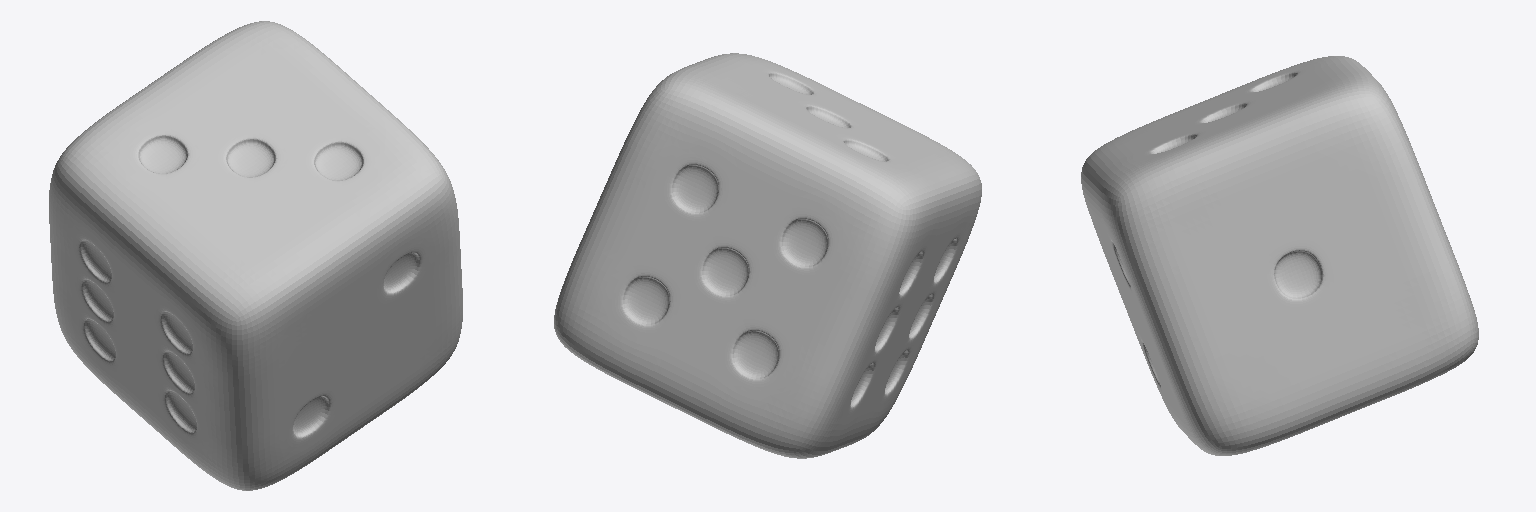
The model's file is dice.obj.
3 renders of one model, left to right at view 1: azimuth 30°, elevation 25°; view 2: azimuth 150°, elevation 25°; view 3: azimuth 270°, elevation 25°, orthographic.
Bounding box in the file's own units: 2.55 × 2.7 × 2.55.